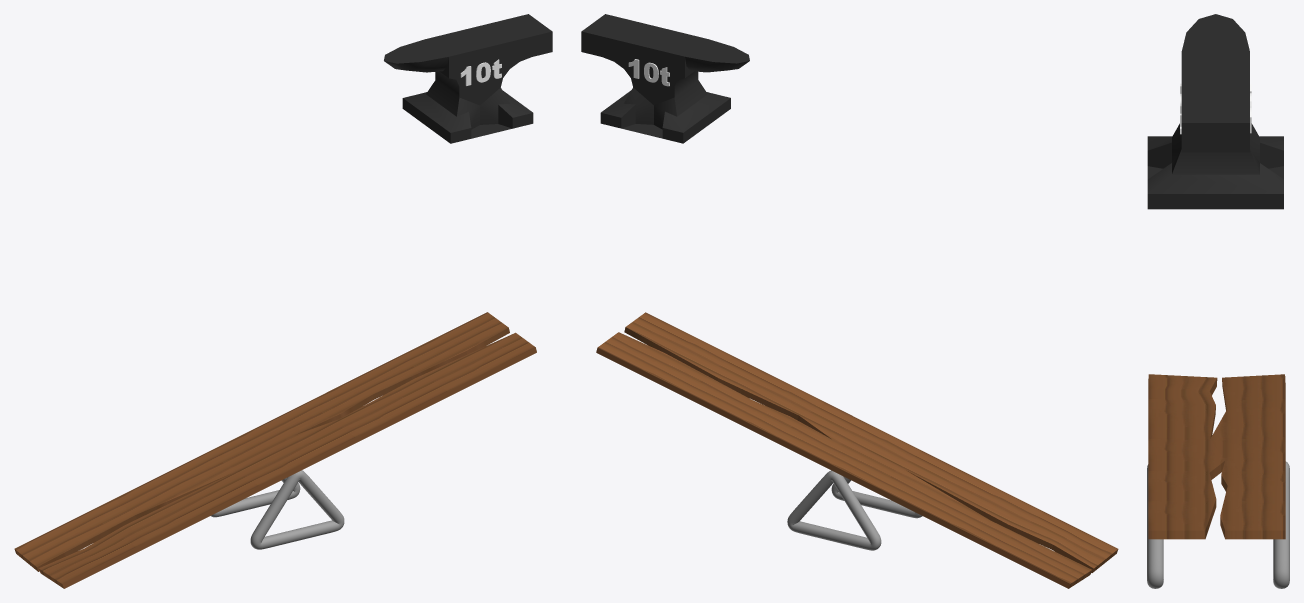
3 views of the same model, side by side, from view 1: azimuth 30°, elevation 25°; view 2: azimuth 150°, elevation 25°; view 3: azimuth 270°, elevation 25° (orthographic). The views are drawn at different scales.
Visible parts, largest first — view 1: Wood_Mesh, 10t_Mesh, Base_Mesh; view 2: Wood_Mesh, 10t_Mesh, Base_Mesh; view 3: Wood_Mesh, 10t_Mesh, Base_Mesh.
Boxes of the visible parts, bbox=[...] form: Wood_Mesh: bbox=[14, 312, 536, 588]; 10t_Mesh: bbox=[384, 14, 552, 143]; Base_Mesh: bbox=[211, 470, 344, 549]; Wood_Mesh: bbox=[596, 312, 1118, 588]; 10t_Mesh: bbox=[581, 14, 749, 143]; Base_Mesh: bbox=[787, 470, 922, 550]; Wood_Mesh: bbox=[1148, 374, 1285, 539]; 10t_Mesh: bbox=[1147, 14, 1283, 209]; Base_Mesh: bbox=[1147, 461, 1289, 588].
Size of what is drawn, in the model's own units: 12.03 by 10.01 by 2.08.
4 materials, 1 textured.
